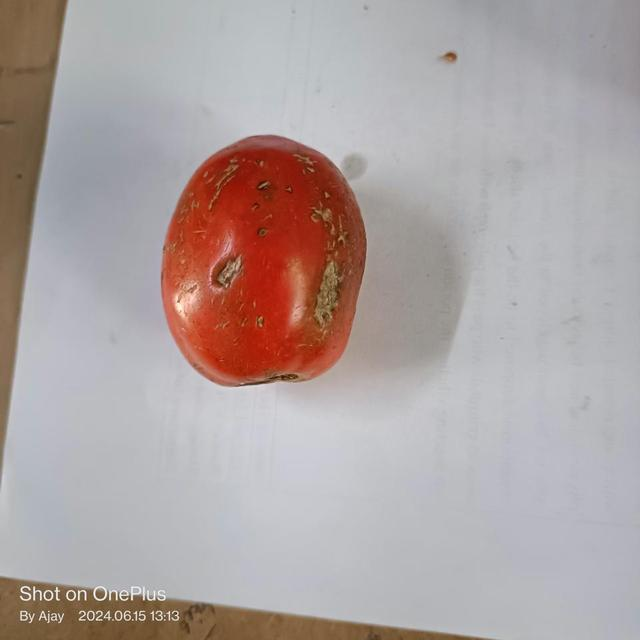Bacterial Spot Fruit: (6, 8, 220, 215)
